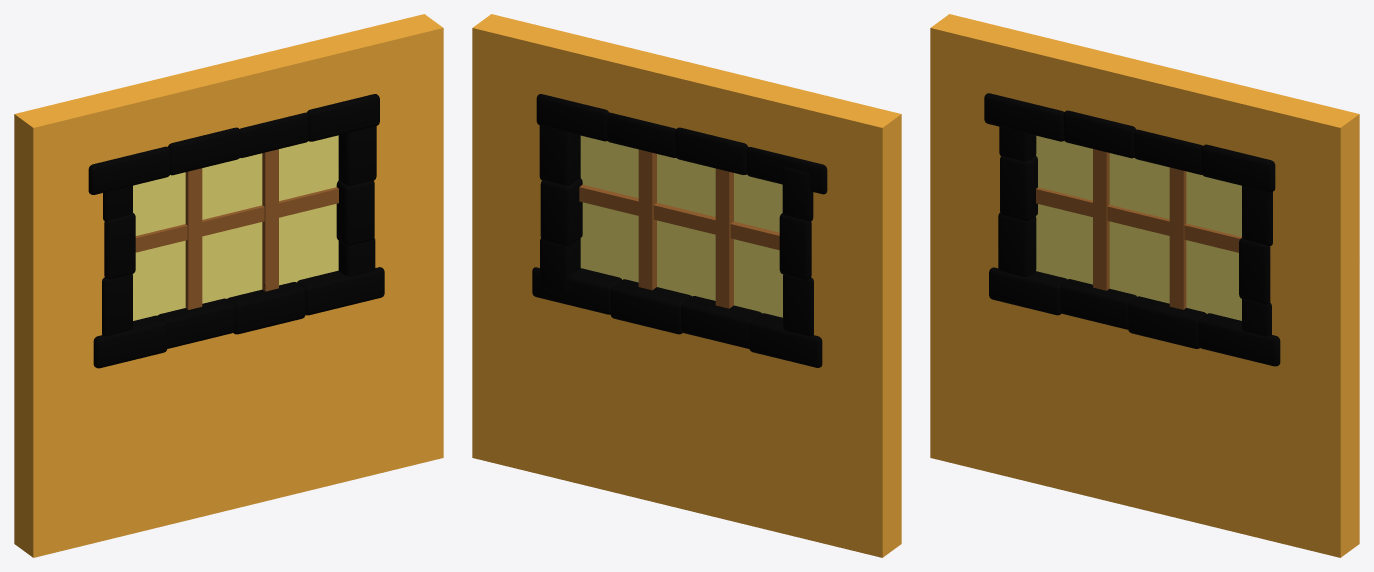
Rendered from Wall 6.fbx.
3 views of the same model, side by side, from view 1: azimuth 30°, elevation 25°; view 2: azimuth 150°, elevation 25°; view 3: azimuth 330°, elevation 25° (orthographic).
Visible parts, largest first — view 1: Wall 6; view 2: Wall 6; view 3: Wall 6.
Boxes of the visible parts, box(x1,y1,x2,y2) form: Wall 6: box(14, 14, 443, 557); Wall 6: box(472, 14, 901, 557); Wall 6: box(930, 14, 1359, 557).
Size of the model in its own units: 249 by 249 by 26.94.
Materials: 1 (1 with a texture image).
